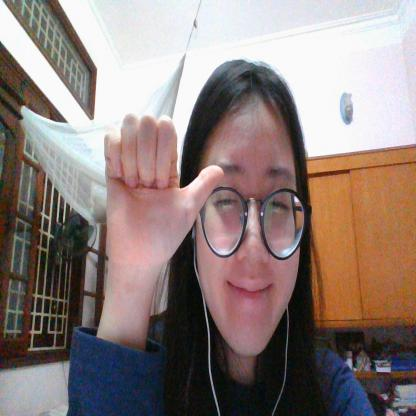left: (102, 104, 226, 264)
